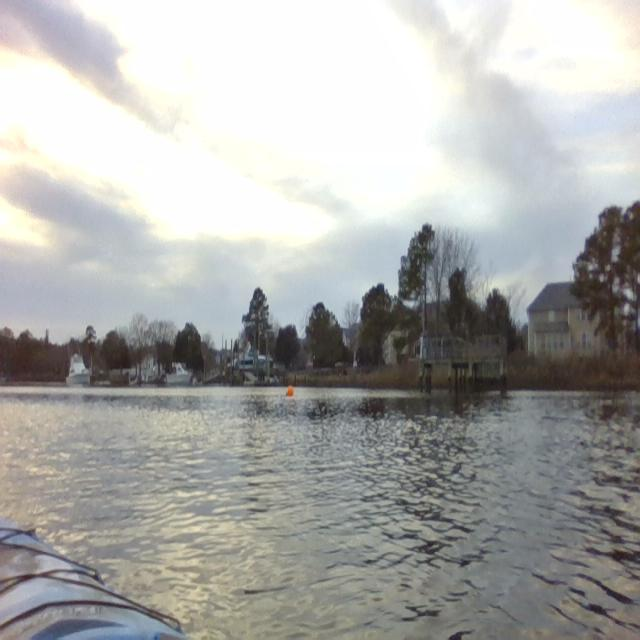Buoy: (285, 380, 295, 399)
